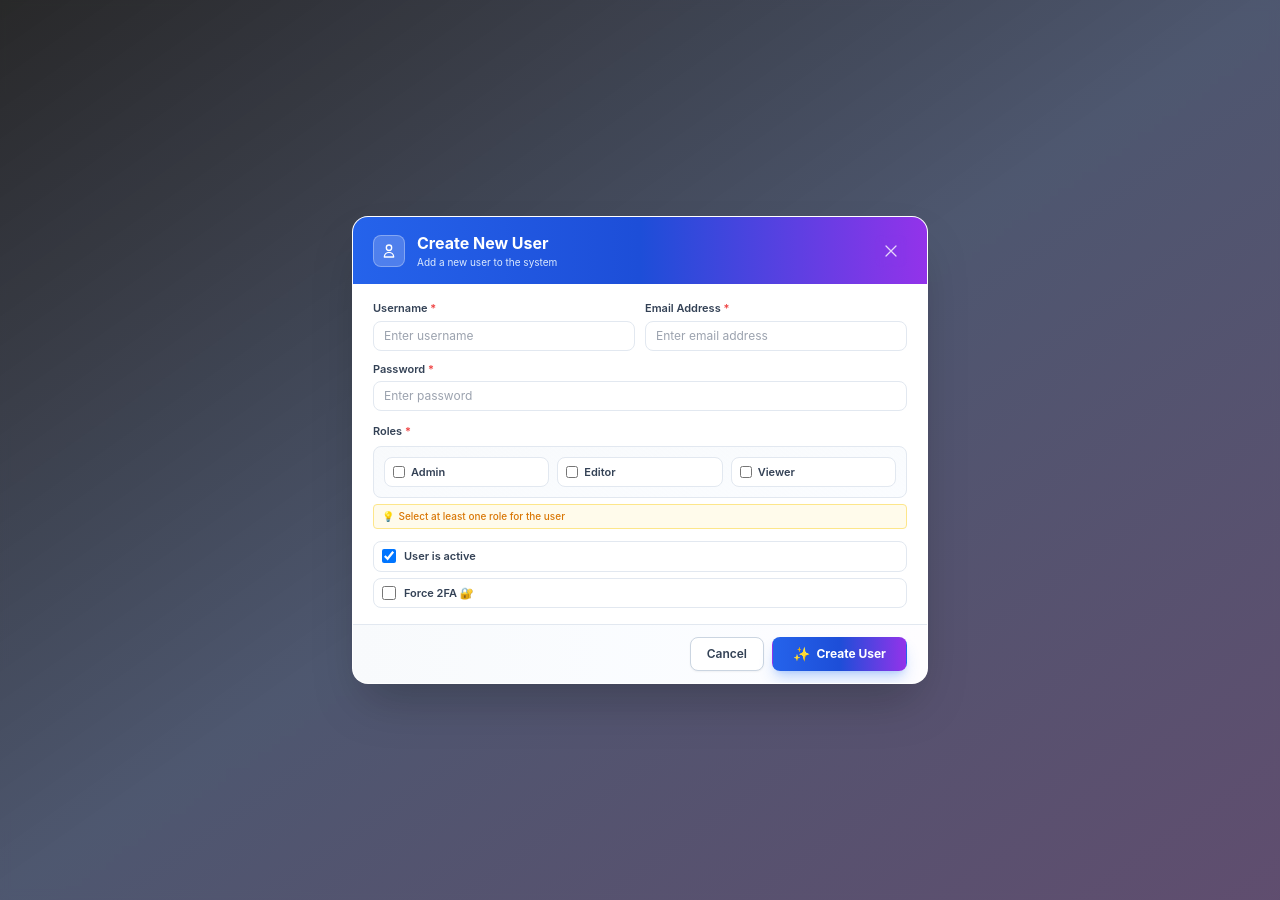
Scenario: UserModal Component › Create Mode › should validate password minimum length
Type "123" into the password field with placeholder "Enter password" at (640, 396), box x1=373 y1=381 x2=907 y2=411
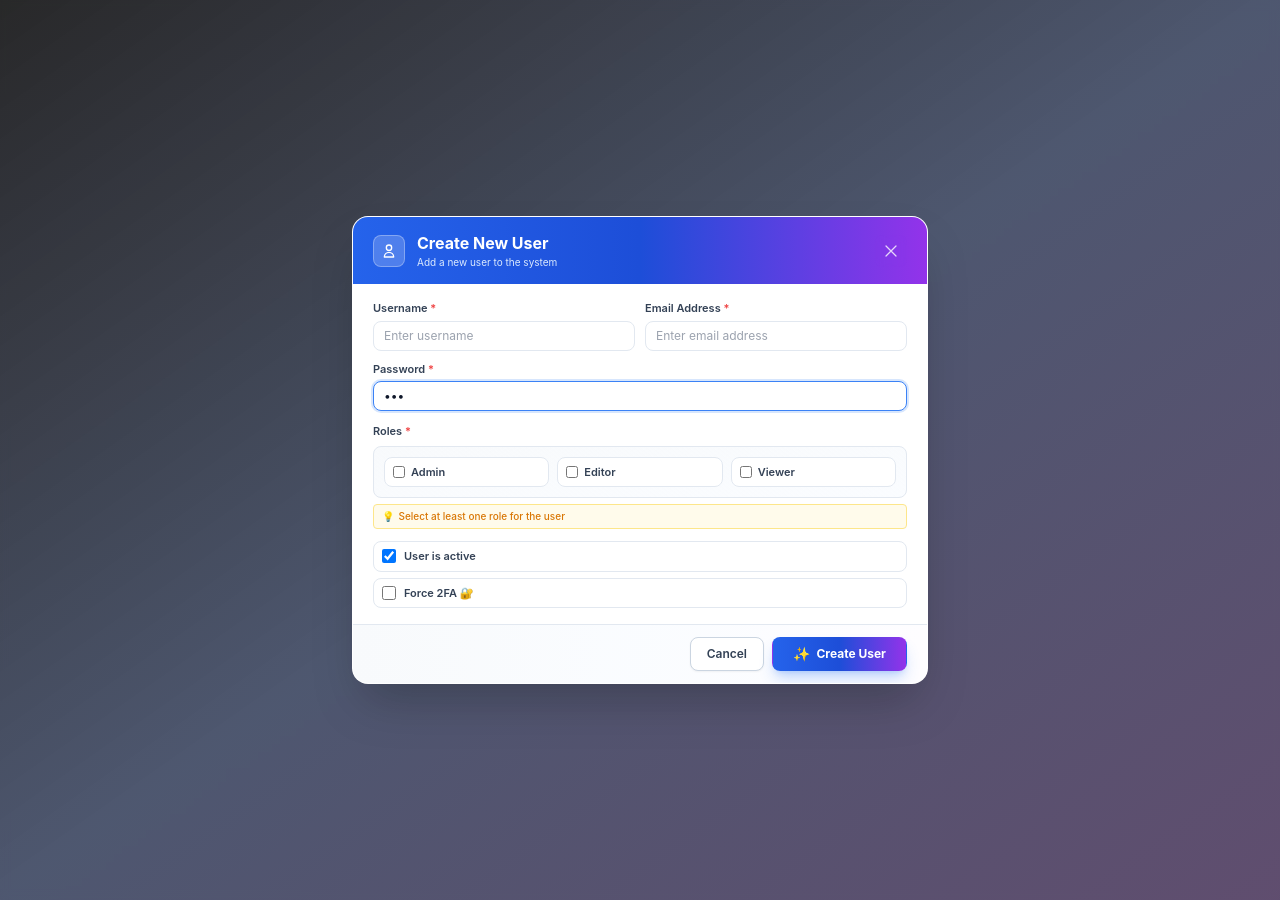
Click the text "Create User" at (851, 654), box x1=816 y1=646 x2=886 y2=662
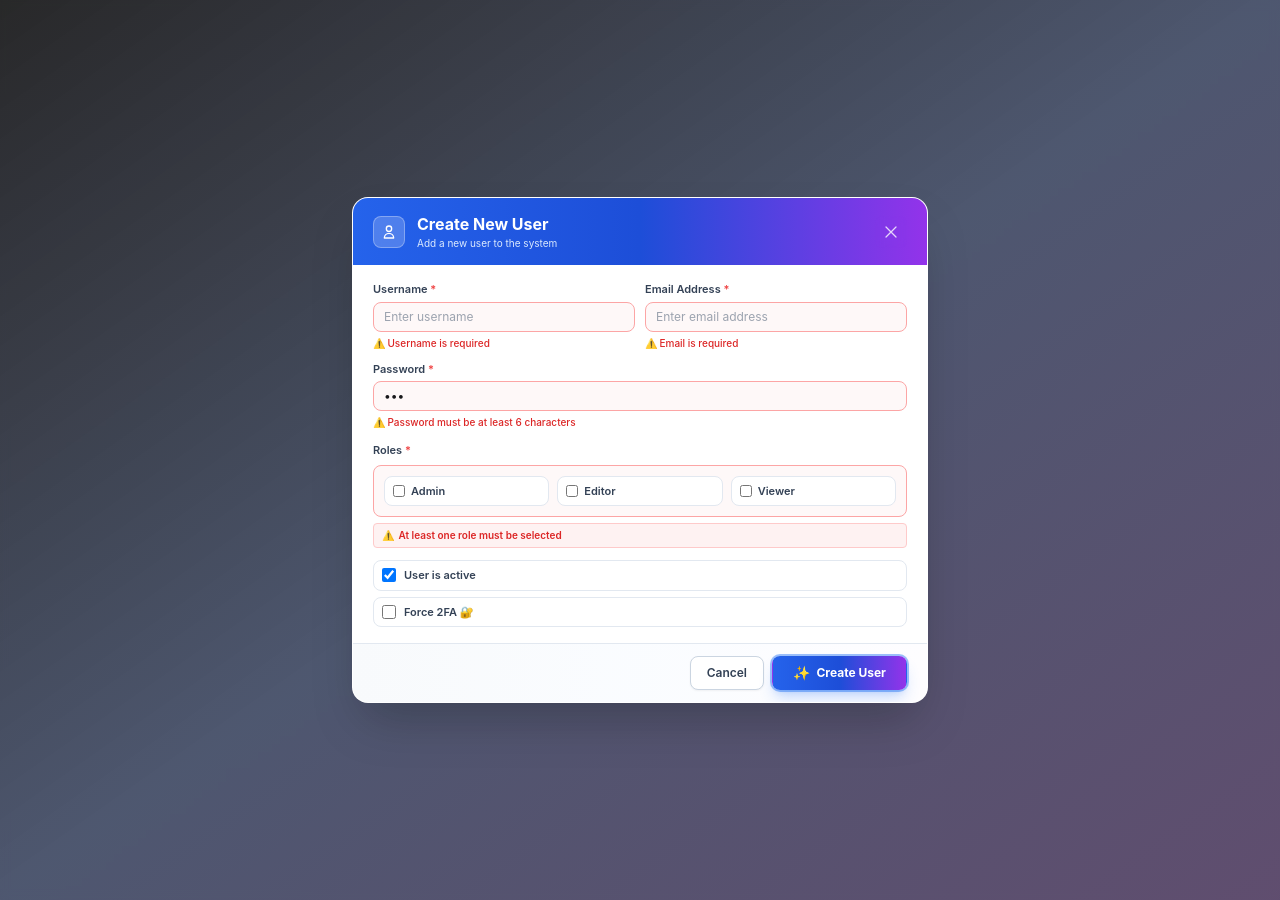
Check: the text "⚠️ Password must be at least 6 characters" is shown, box x1=373 y1=416 x2=576 y2=428
